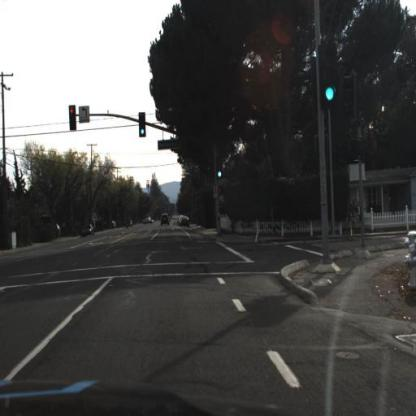trafficLight-Green: (319, 47, 340, 108), (139, 111, 147, 139), (217, 157, 225, 182)
trafficLight-RedLeft: (69, 104, 80, 134)
